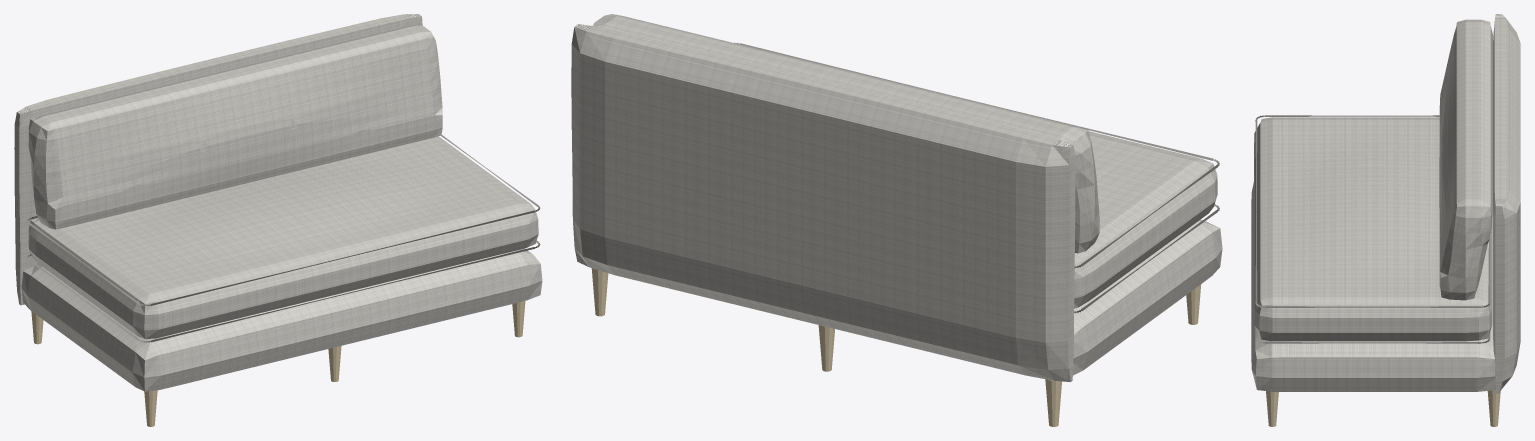
The model's file is LIT-LOV-std.glb.
3 views of the same model, side by side, from view 1: azimuth 30°, elevation 25°; view 2: azimuth 150°, elevation 25°; view 3: azimuth 270°, elevation 25° (orthographic). The views are drawn at different scales.
Parts seen in each view (by area): view 1: seat:fabric:eyJwcmVzZXQiOiJsaW5lbiIsIndhcnAiOiJ3aGl0ZSIsIndl, inside-back:fabric:eyJwcmVzZXQiOiJsaW5lbiIsIndhcnAiOiJ3aGl0Z, deck:fabric:eyJwcmVzZXQiOiJsaW5lbiIsIndhcnAiOiJ3aGl0ZSIsIndl, back-pad:fabric:eyJwcmVzZXQiOiJsaW5lbiIsIndhcnAiOiJ3aGl0ZSIs, seat:piping:pbr; view 2: back-pad:fabric:eyJwcmVzZXQiOiJsaW5lbiIsIndhcnAiOiJ3aGl0ZSIs, seat:fabric:eyJwcmVzZXQiOiJsaW5lbiIsIndhcnAiOiJ3aGl0ZSIsIndl, inside-back:fabric:eyJwcmVzZXQiOiJsaW5lbiIsIndhcnAiOiJ3aGl0Z, deck:fabric:eyJwcmVzZXQiOiJsaW5lbiIsIndhcnAiOiJ3aGl0ZSIsIndl, seat:piping:pbr, leg-bl:pbr, leg-br:pbr, leg-cb:pbr; view 3: seat:fabric:eyJwcmVzZXQiOiJsaW5lbiIsIndhcnAiOiJ3aGl0ZSIsIndl, inside-back:fabric:eyJwcmVzZXQiOiJsaW5lbiIsIndhcnAiOiJ3aGl0Z, deck:fabric:eyJwcmVzZXQiOiJsaW5lbiIsIndhcnAiOiJ3aGl0ZSIsIndl, back-pad:fabric:eyJwcmVzZXQiOiJsaW5lbiIsIndhcnAiOiJ3aGl0ZSIs, seat:piping:pbr, leg-br:pbr, leg-fr:pbr.
Boxes of the visible parts, bbox=[...] form: seat:fabric:eyJwcmVzZXQiOiJsaW5lbiIsIndhcnAiOiJ3aGl0ZSIsIndl: bbox=[28, 136, 538, 338]; inside-back:fabric:eyJwcmVzZXQiOiJsaW5lbiIsIndhcnAiOiJ3aGl0Z: bbox=[28, 24, 442, 229]; deck:fabric:eyJwcmVzZXQiOiJsaW5lbiIsIndhcnAiOiJ3aGl0ZSIsIndl: bbox=[21, 248, 542, 391]; back-pad:fabric:eyJwcmVzZXQiOiJsaW5lbiIsIndhcnAiOiJ3aGl0ZSIs: bbox=[14, 14, 422, 305]; seat:piping:pbr: bbox=[27, 135, 540, 342]; back-pad:fabric:eyJwcmVzZXQiOiJsaW5lbiIsIndhcnAiOiJ3aGl0ZSIs: bbox=[571, 24, 1075, 381]; seat:fabric:eyJwcmVzZXQiOiJsaW5lbiIsIndhcnAiOiJ3aGl0ZSIsIndl: bbox=[1074, 131, 1217, 308]; inside-back:fabric:eyJwcmVzZXQiOiJsaW5lbiIsIndhcnAiOiJ3aGl0Z: bbox=[593, 14, 1099, 253]; deck:fabric:eyJwcmVzZXQiOiJsaW5lbiIsIndhcnAiOiJ3aGl0ZSIsIndl: bbox=[1073, 219, 1222, 375]; seat:piping:pbr: bbox=[734, 42, 1219, 313]; leg-bl:pbr: bbox=[1045, 379, 1061, 426]; leg-br:pbr: bbox=[591, 268, 608, 316]; leg-cb:pbr: bbox=[818, 325, 834, 371]; seat:fabric:eyJwcmVzZXQiOiJsaW5lbiIsIndhcnAiOiJ3aGl0ZSIsIndl: bbox=[1254, 117, 1492, 341]; inside-back:fabric:eyJwcmVzZXQiOiJsaW5lbiIsIndhcnAiOiJ3aGl0Z: bbox=[1439, 19, 1492, 300]; deck:fabric:eyJwcmVzZXQiOiJsaW5lbiIsIndhcnAiOiJ3aGl0ZSIsIndl: bbox=[1251, 182, 1495, 391]; back-pad:fabric:eyJwcmVzZXQiOiJsaW5lbiIsIndhcnAiOiJ3aGl0ZSIs: bbox=[1493, 14, 1520, 393]; seat:piping:pbr: bbox=[1255, 115, 1490, 343]; leg-br:pbr: bbox=[1487, 390, 1500, 426]; leg-fr:pbr: bbox=[1266, 391, 1278, 426].
Bounding box in the file's own units: 1.45 × 0.8 × 0.85.
11 materials, 4 textured.
